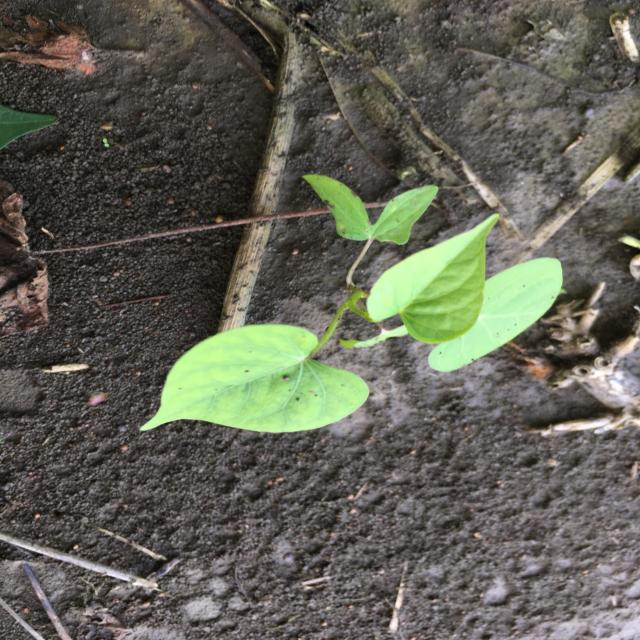MorningGlory: (135, 173, 566, 435)
